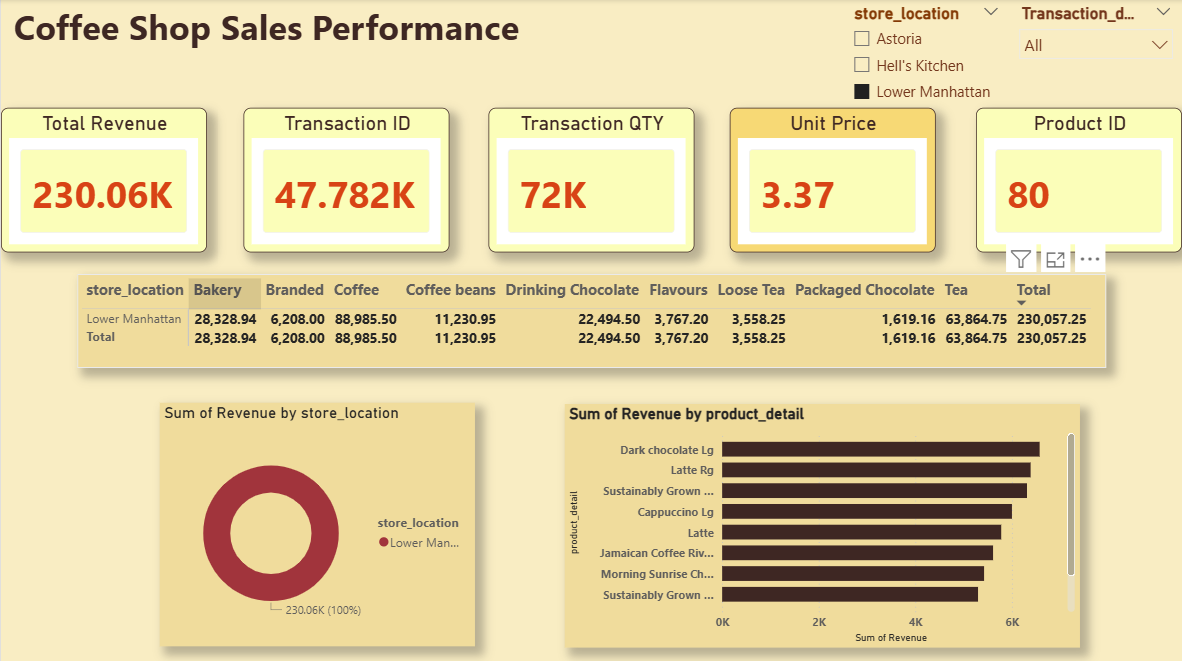

This screenshot's page, from the dashboard's own definition file:
{"tool":"powerbi","page":{"name":"Store Details","canvas":[1280,720],"ordinal":1},"visuals":[{"type":"textbox","box":[0,0,730.2,84],"z":0},{"type":"slicer","fields":{"Values":["public coffee_shop_sales.store_location"]},"box":[911.8,0,181.5,130.1],"z":1000},{"type":"slicer","fields":{"Values":["public coffee_shop_sales.transaction_date"]},"box":[1093.3,0,187,84],"z":2000},{"type":"cardVisual","title":"Total Revenue","fields":{"Data":["Sum(public coffee_shop_sales.Revenue)"]},"box":[0,117.9,223.5,157.2],"z":3000},{"type":"cardVisual","title":"Transaction ID","fields":{"Data":["CountNonNull(public coffee_shop_sales.transaction_id)"]},"box":[262.8,117.9,223.5,157],"z":4000},{"type":"cardVisual","title":"Transaction QTY","fields":{"Data":["Sum(public coffee_shop_sales.transaction_qty)"]},"box":[528.4,117.9,223.5,157.2],"z":5000},{"type":"cardVisual","title":"Unit Price","fields":{"Data":["Avg(public coffee_shop_sales.unit_price)"]},"box":[789.8,117.9,223.5,157.2],"z":6000},{"type":"cardVisual","title":"Product ID","fields":{"Data":["Count(public coffee_shop_sales.product_id)"]},"box":[1056.7,117.9,223.5,157.2],"z":7000},{"type":"pivotTable","fields":{"Columns":["public coffee_shop_sales.product_category"],"Rows":["public coffee_shop_sales.store_location"],"Values":["Sum(public coffee_shop_sales.Revenue)"]},"box":[82.6,298.1,1115,101.6],"z":7001},{"type":"donutChart","fields":{"Category":["public coffee_shop_sales.store_location"],"Y":["Sum(public coffee_shop_sales.Revenue)"]},"box":[172.1,437.6,341.4,264.2],"z":7002},{"type":"clusteredBarChart","fields":{"Category":["public coffee_shop_sales.product_detail"],"Y":["Sum(public coffee_shop_sales.Revenue)"]},"box":[611,439,558.2,264.2],"z":7003}]}

Visuals, with their boxes in screenshot pixels (x1, y1, x2, y2), scaled from the page's 1280x720 canvas onto the 1182x661 screenshot:
textbox: bbox(0, 0, 674, 77)
slicer - public coffee_shop_sales.store_location: bbox(842, 0, 1010, 119)
slicer - public coffee_shop_sales.transaction_date: bbox(1010, 0, 1181, 77)
"Total Revenue" cardVisual: bbox(0, 108, 206, 253)
"Transaction ID" cardVisual: bbox(243, 108, 449, 252)
"Transaction QTY" cardVisual: bbox(488, 108, 694, 253)
"Unit Price" cardVisual: bbox(729, 108, 936, 253)
"Product ID" cardVisual: bbox(976, 108, 1181, 253)
pivotTable - public coffee_shop_sales.product_category x public coffee_shop_sales.store_location: bbox(76, 274, 1106, 367)
donutChart - public coffee_shop_sales.store_location x Sum(public coffee_shop_sales.Revenue): bbox(159, 402, 474, 644)
clusteredBarChart - public coffee_shop_sales.product_detail x Sum(public coffee_shop_sales.Revenue): bbox(564, 403, 1080, 646)
